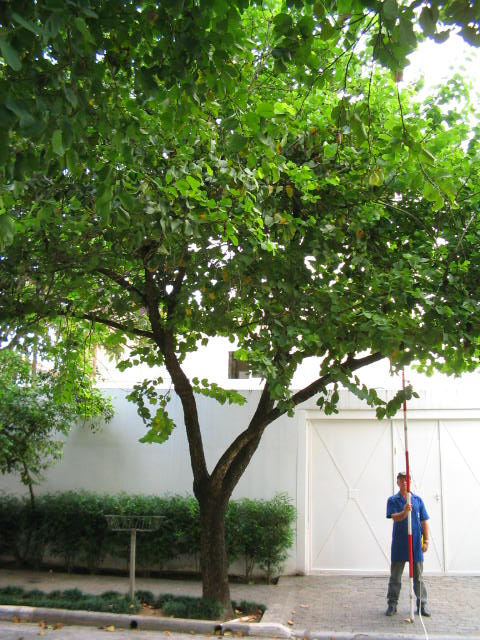crown: (53, 71, 473, 434)
stem: (185, 478, 249, 619)
stick: (392, 358, 421, 622)
tree: (49, 68, 476, 622)
